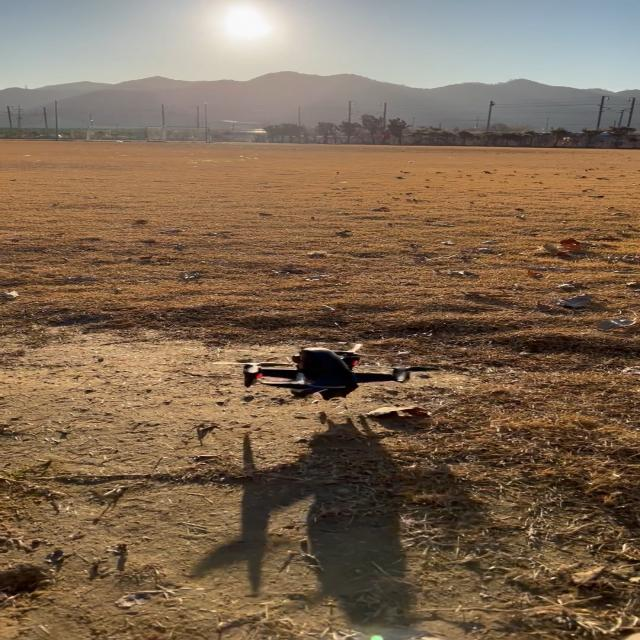drone: (210, 343, 438, 400)
